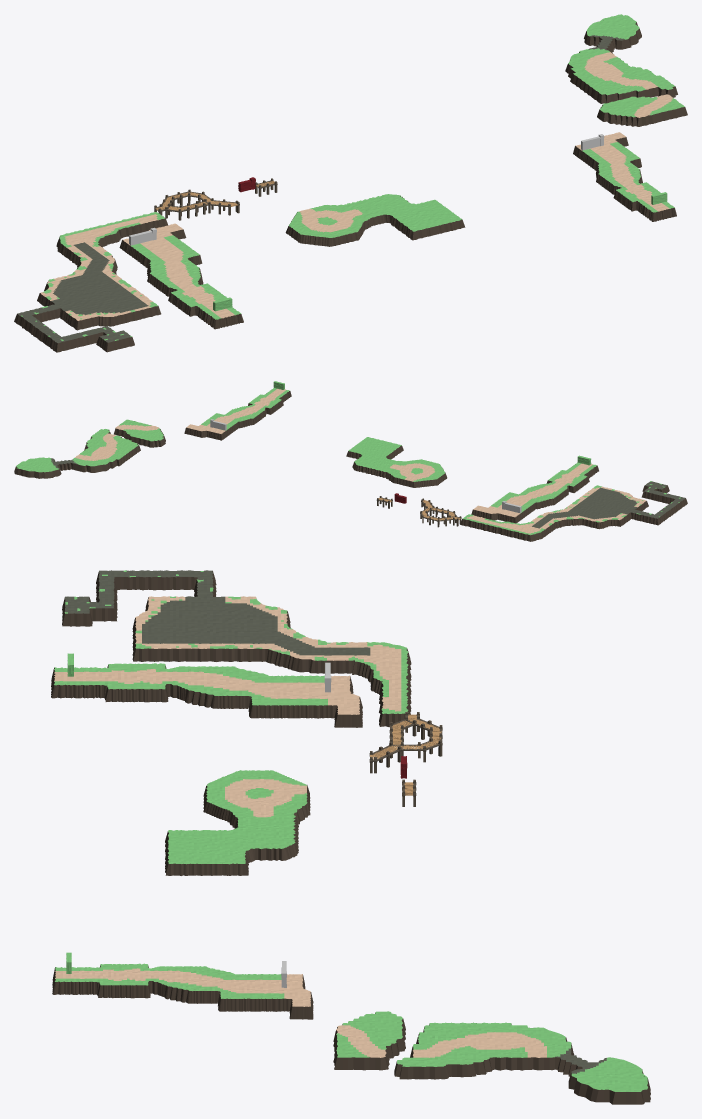
Rendered from WorldSectionTwoNew.fbx.
3 views of the same model, one above another, from view 1: azimuth 30°, elevation 25°; view 2: azimuth 150°, elevation 25°; view 3: azimuth 270°, elevation 25° (orthographic). The views are drawn at different scales.
Visible parts, largest first — view 1: Plane.002, Plane.005, Plane.001, Plane, Plane.004, Bridge.001; view 2: Plane.002, Plane.005, Plane, Plane.001, Plane.004, Bridge.001; view 3: Plane.002, Plane.005, Plane, Plane.001, Plane.004, Bridge.001.
Boxes of the visible parts, bbox=[...] form: Plane.002: bbox=[14, 212, 168, 352]; Plane.005: bbox=[565, 14, 687, 126]; Plane.001: bbox=[285, 194, 465, 246]; Plane: bbox=[119, 223, 243, 329]; Plane.004: bbox=[573, 132, 676, 221]; Bridge.001: bbox=[154, 189, 239, 220]; Plane.002: bbox=[460, 481, 687, 541]; Plane.005: bbox=[14, 419, 165, 478]; Plane: bbox=[471, 455, 598, 523]; Plane.001: bbox=[346, 437, 447, 487]; Plane.004: bbox=[184, 381, 291, 440]; Bridge.001: bbox=[420, 498, 461, 527]; Plane.002: bbox=[62, 570, 411, 726]; Plane.005: bbox=[333, 1011, 650, 1104]; Plane: bbox=[51, 653, 362, 727]; Plane.001: bbox=[165, 770, 310, 875]; Plane.004: bbox=[52, 952, 313, 1019]; Bridge.001: bbox=[369, 712, 442, 773].
Bounding box in the file's own units: 85342 × 2241 × 41233.
